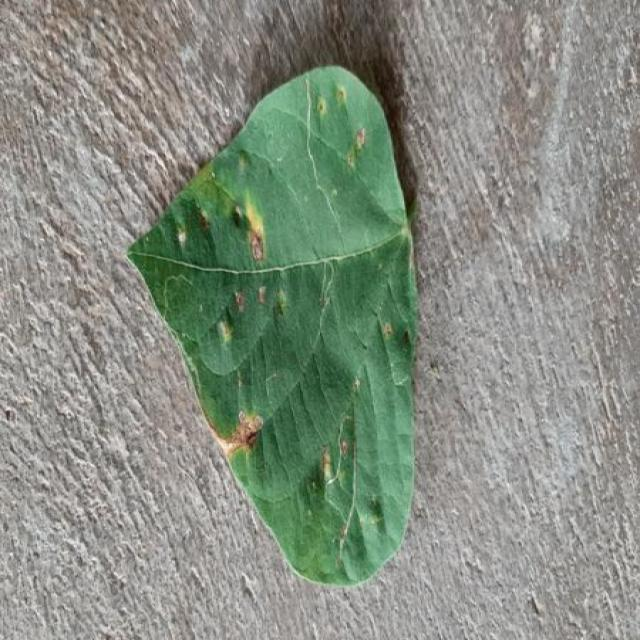alovera: (98, 51, 431, 602), (128, 66, 417, 584)
beans: (128, 66, 417, 584)
defectedbeans: (165, 116, 300, 494)
